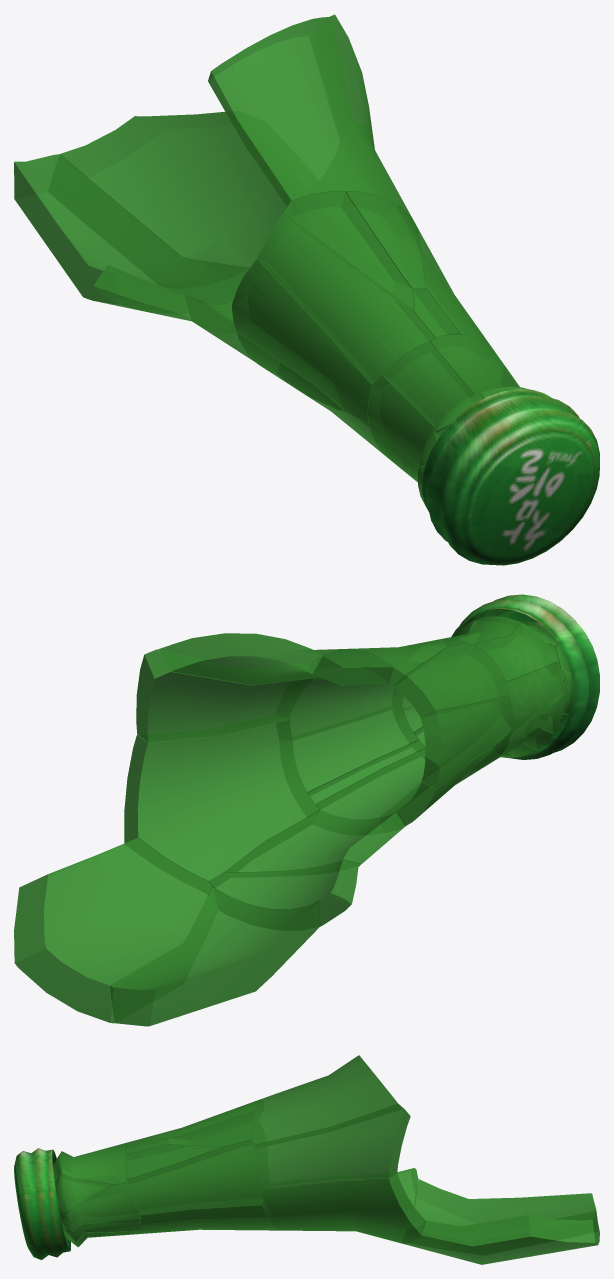
The model's file is cham_isul_handle.fbx.
3 views of the same model, one above another, from view 1: azimuth 30°, elevation 25°; view 2: azimuth 150°, elevation 25°; view 3: azimuth 270°, elevation 25° (orthographic). The views are drawn at different scales.
Visible parts, largest first — view 1: Cylinder.002_cell.018; view 2: Cylinder.002_cell.018; view 3: Cylinder.002_cell.018.
Boxes of the visible parts, <box> form: Cylinder.002_cell.018: <box>14,14,599,565</box>; Cylinder.002_cell.018: <box>14,594,599,1026</box>; Cylinder.002_cell.018: <box>14,1055,599,1264</box>.
Size of the model in its own units: 110 by 125 by 339.
